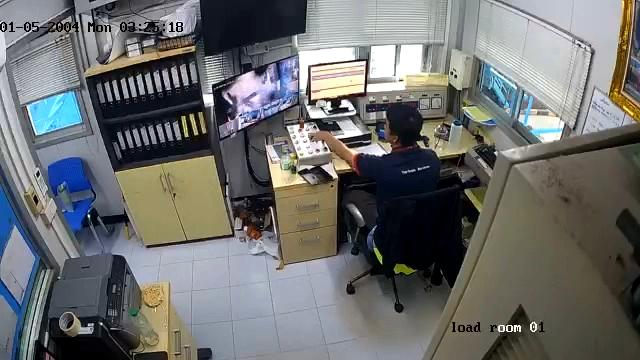Head: (383, 103, 424, 146)
People: (344, 100, 439, 206)
Phone: (297, 168, 320, 187), (310, 166, 332, 183)
